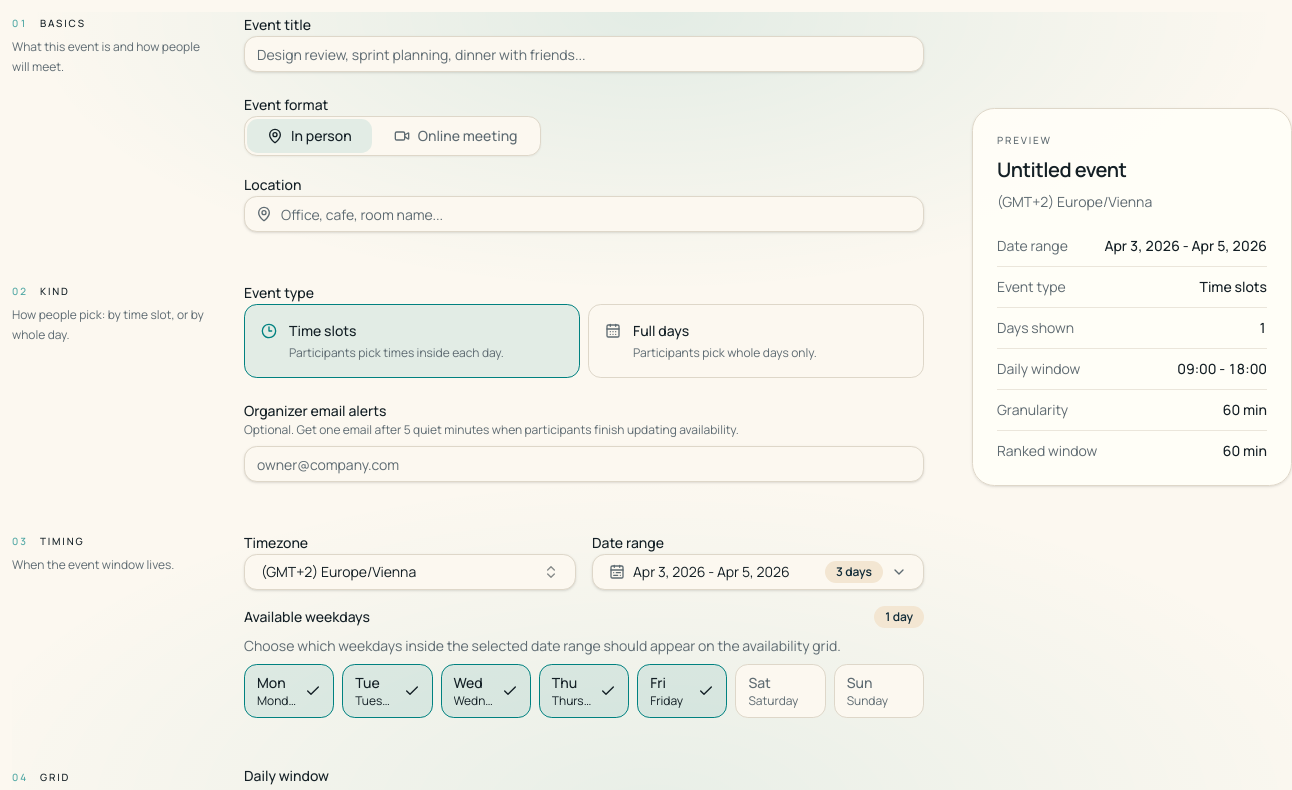
it: CreateEventForm › uses the current day when switching a still-default range to full-day after midnight
The image size is (1292, 790).
Click the radio button labelled "Full days Participants pick whole days only.". click: x=756, y=341
box: 588,304 -> 924,378
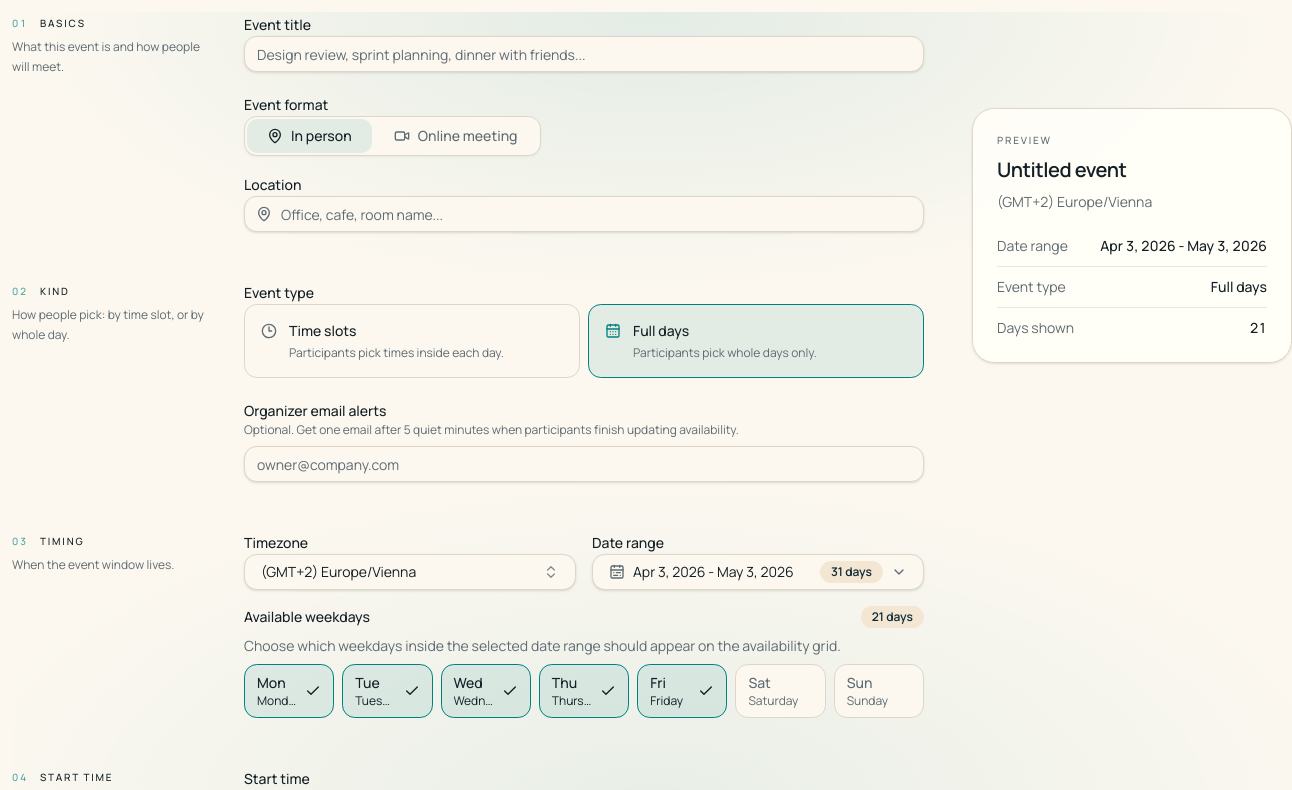
Result: the text "Apr 3, 2026 - May 3, 2026" in the row of "When the event window lives." is shown at 633,562 -> 794,581
